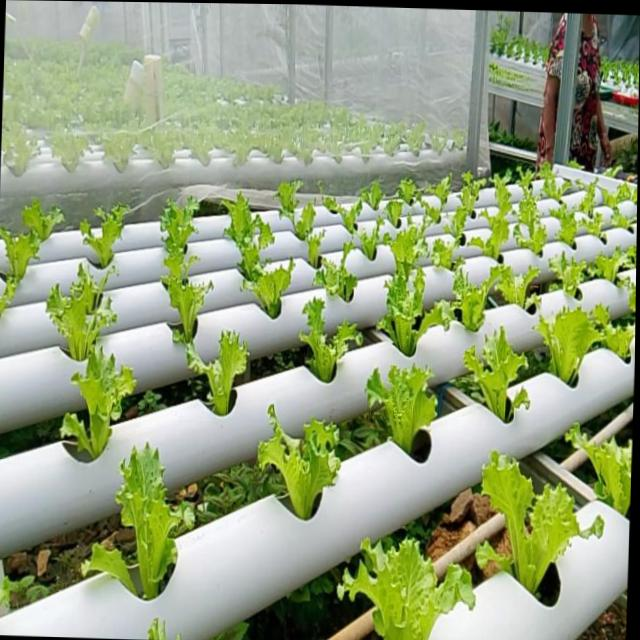Baby: (481, 450, 608, 591), (343, 537, 481, 640), (121, 442, 198, 600), (261, 405, 345, 520), (66, 346, 141, 460), (164, 198, 216, 351), (369, 366, 442, 464), (51, 264, 120, 361), (468, 328, 532, 424), (538, 304, 607, 385), (303, 299, 366, 384), (191, 331, 252, 416), (446, 263, 515, 333), (225, 194, 277, 281), (317, 244, 373, 304), (2, 227, 47, 299), (84, 205, 133, 269), (245, 261, 298, 320), (515, 172, 550, 257), (386, 219, 432, 282), (543, 163, 575, 201), (555, 204, 581, 247), (434, 239, 458, 270), (581, 181, 600, 218), (424, 197, 446, 228)
